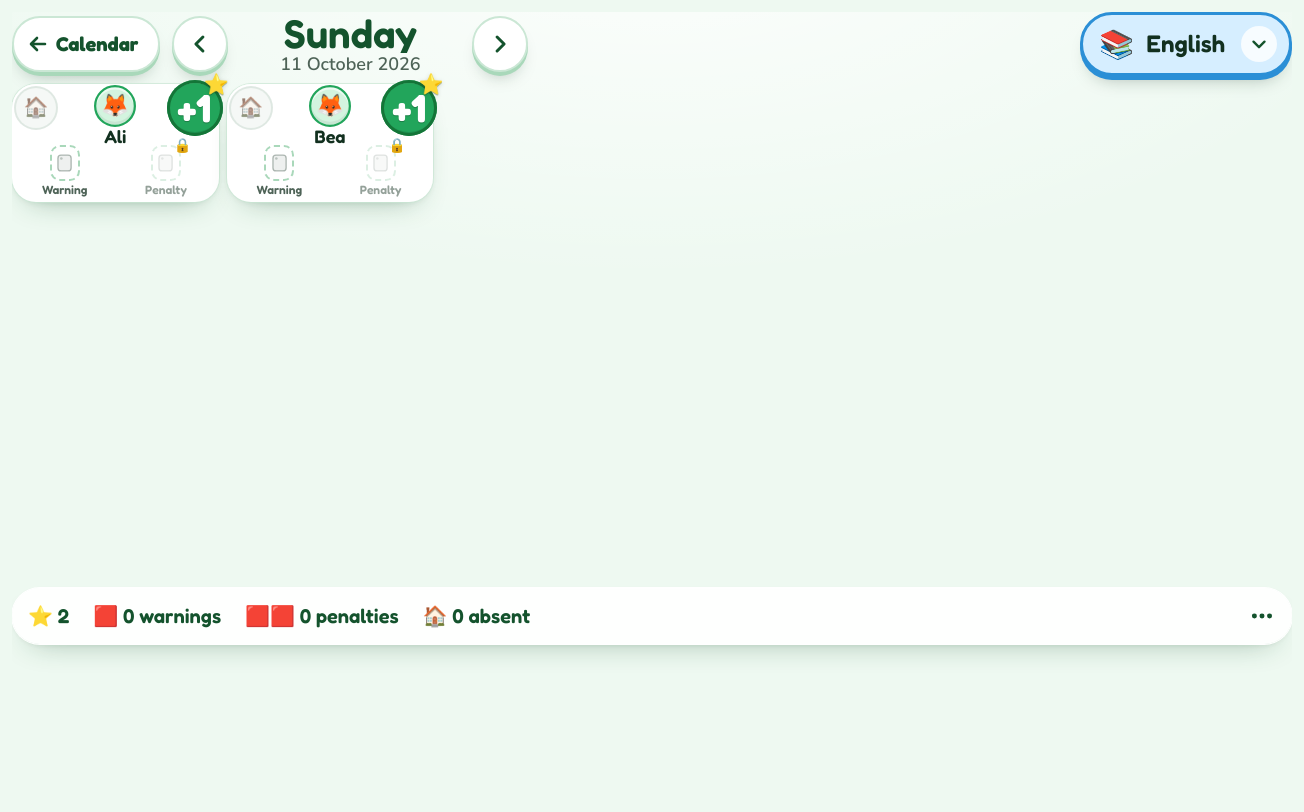
Day view › penalty without warning shows hint and does not enqueue
The image size is (1304, 812).
Click the button with aria-label "Penalty for Ali": [166, 169] box [117,141,215,198]
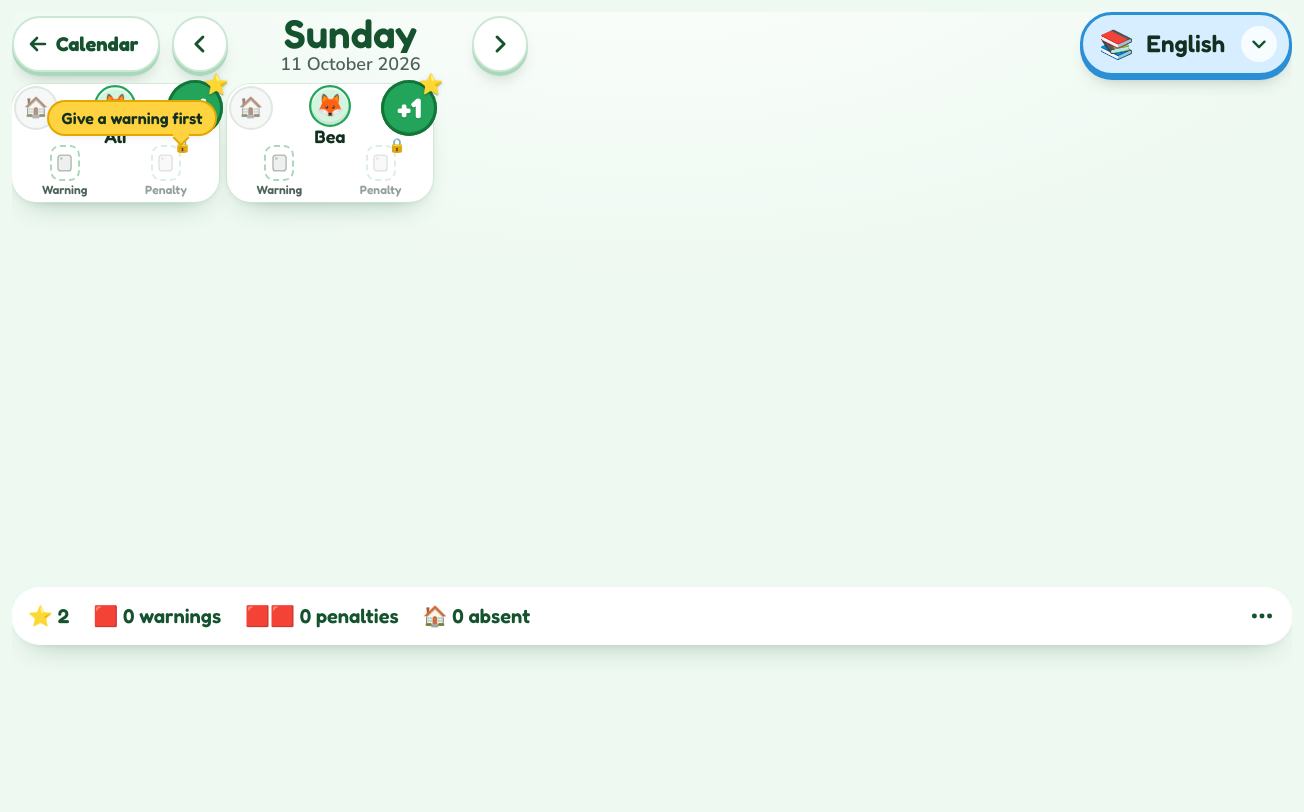
Expected: the text "Give a warning first" is shown, [49,102,215,134]
